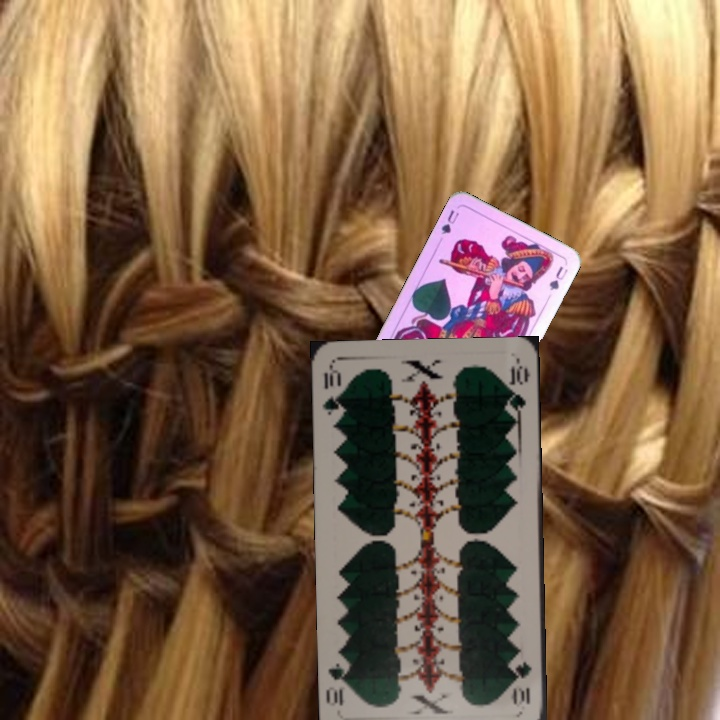G10: (319, 365, 346, 425), (510, 657, 534, 710)
GU: (437, 206, 462, 237)
